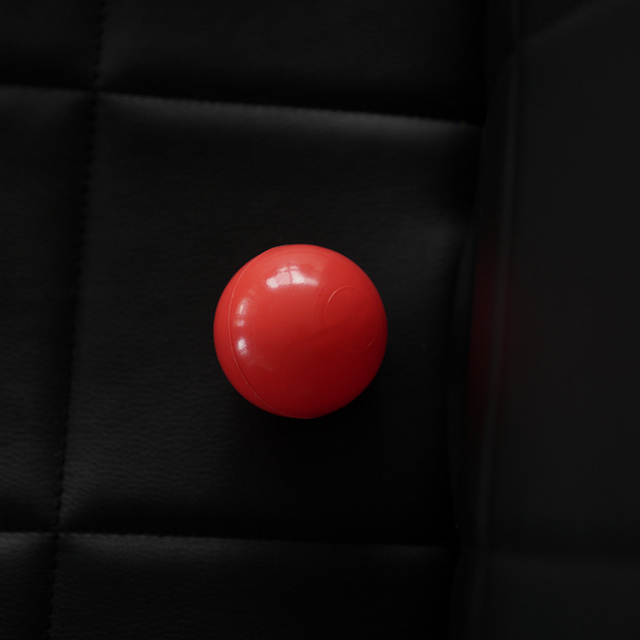Ball: (219, 244, 386, 415)
